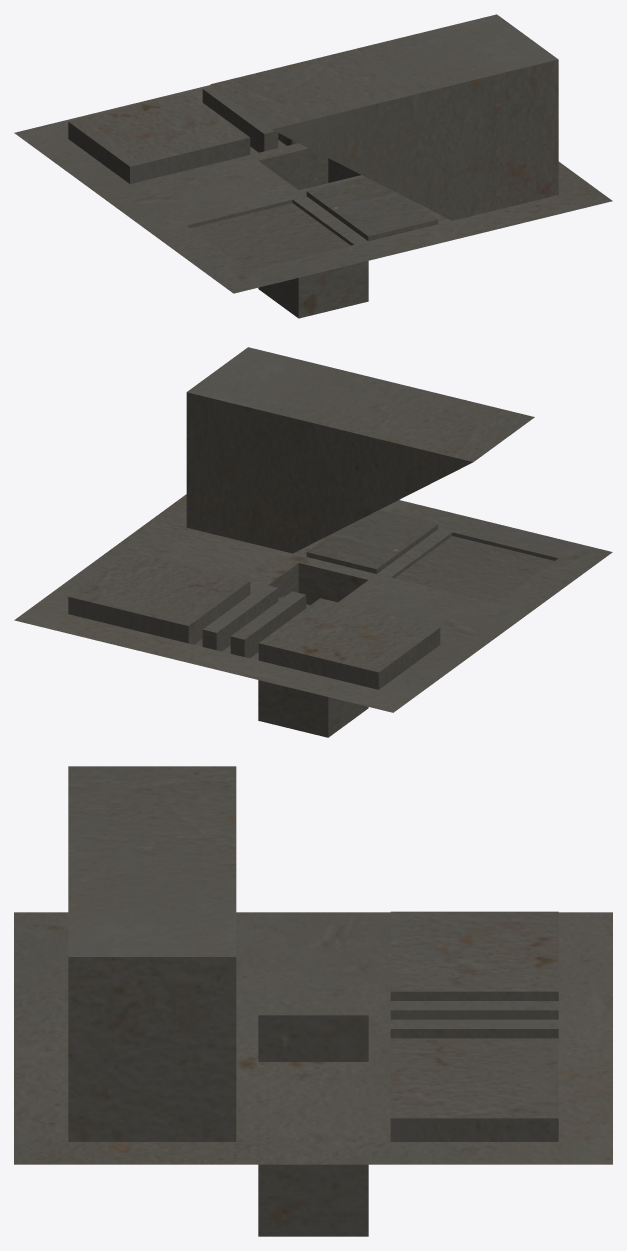
The model's file is Map.obj.
3 renders of one model, top to bottom at view 1: azimuth 30°, elevation 25°; view 2: azimuth 150°, elevation 25°; view 3: azimuth 270°, elevation 25°, orthographic. The views are drawn at different scales.
Visible parts, largest first — view 1: Plane; view 2: Plane; view 3: Plane.
Part boxes in pixels (x1,y1,x2,y2): Plane: (14, 14, 612, 318); Plane: (14, 347, 612, 737); Plane: (14, 766, 612, 1236).
Size of the model in its own units: 98.45 by 65.42 by 98.75.
Materials: 1 (1 with a texture image).
